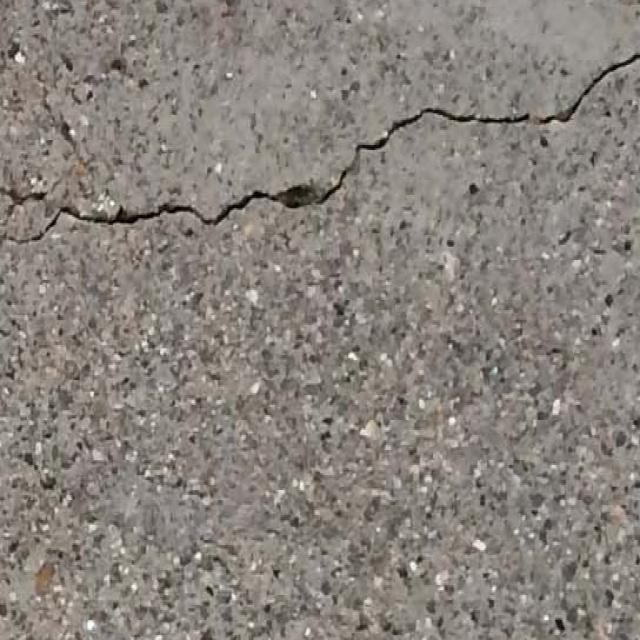Diagonal: (351, 51, 640, 170)
Transverse: (0, 167, 345, 255)
